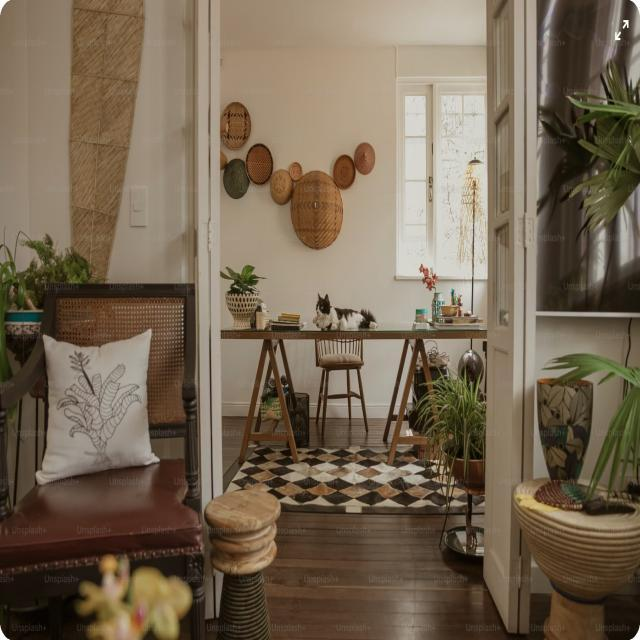cat: (312, 286, 376, 332)
chair: (2, 280, 210, 622)
pillow: (40, 331, 161, 484)
potted plant: (438, 384, 491, 490), (0, 235, 44, 334), (224, 260, 260, 334), (422, 256, 447, 327)
